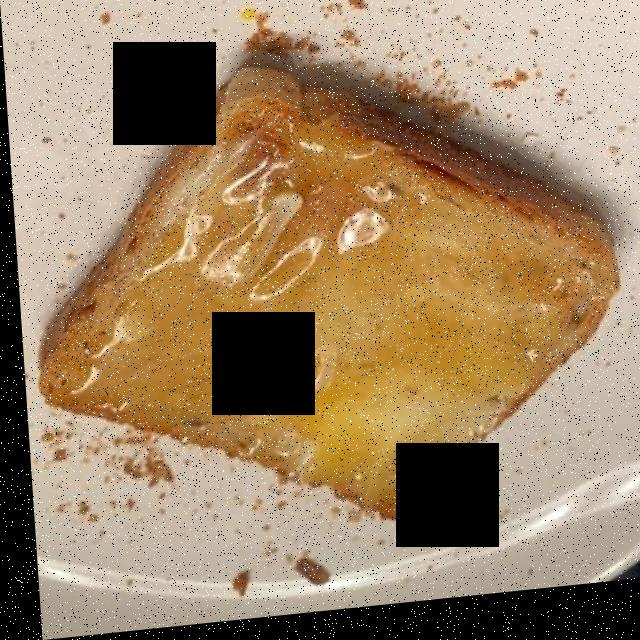bread-wholemeal-toast: (45, 77, 602, 520)
honey: (66, 134, 583, 513)
